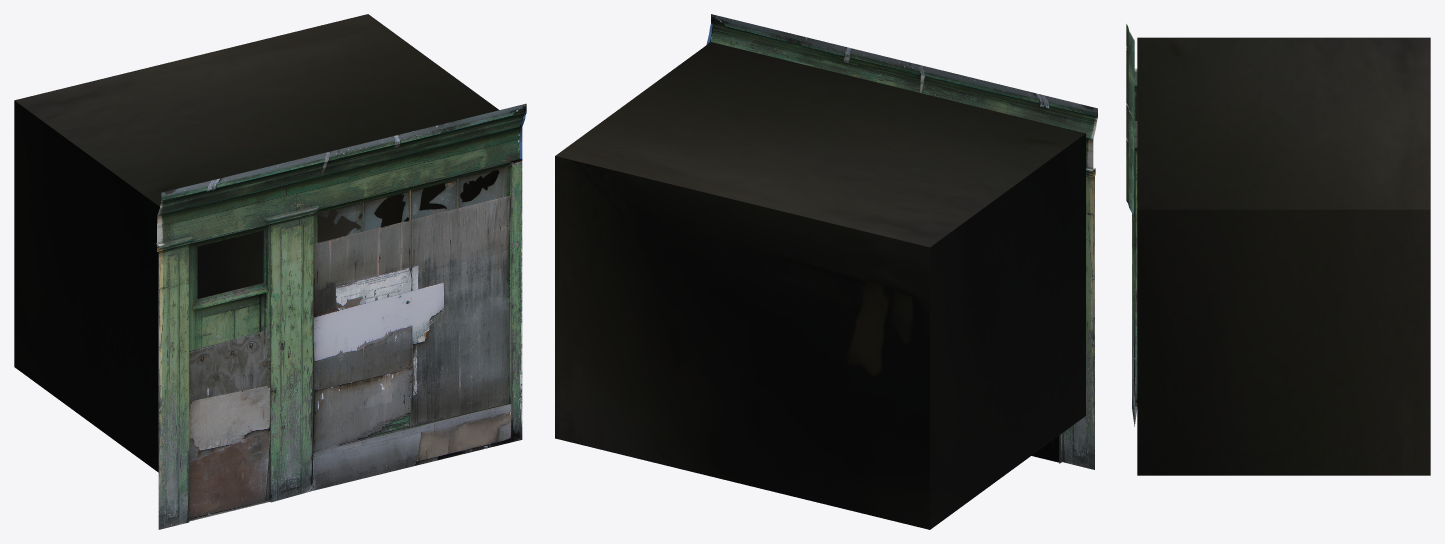
File: shop_front17_derelict.obj
3 views of the same model, side by side, from view 1: azimuth 30°, elevation 25°; view 2: azimuth 150°, elevation 25°; view 3: azimuth 270°, elevation 25° (orthographic). The views are drawn at different scales.
Visible parts, largest first — view 1: shop_front17_derelict; view 2: shop_front17_derelict; view 3: shop_front17_derelict.
Part boxes in pixels (x1,y1,x2,y2): shop_front17_derelict: [14, 14, 526, 529]; shop_front17_derelict: [555, 14, 1097, 529]; shop_front17_derelict: [1126, 24, 1430, 475].
Size of the model in its own units: 5 by 4.44 by 3.62.
